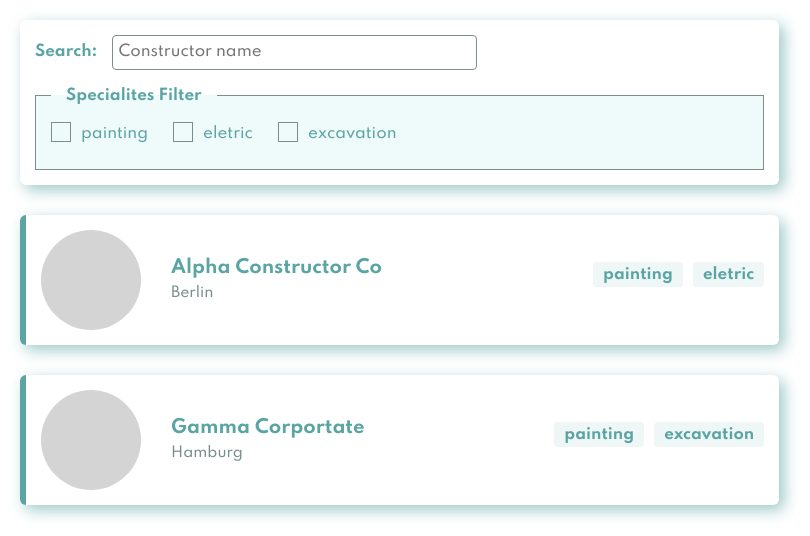
Test case: Constructor List component › should search a constructor by name
Type "Alpha" into the search field with placeholder "Constructor name" at (295, 52), box x1=112 y1=35 x2=477 y2=70
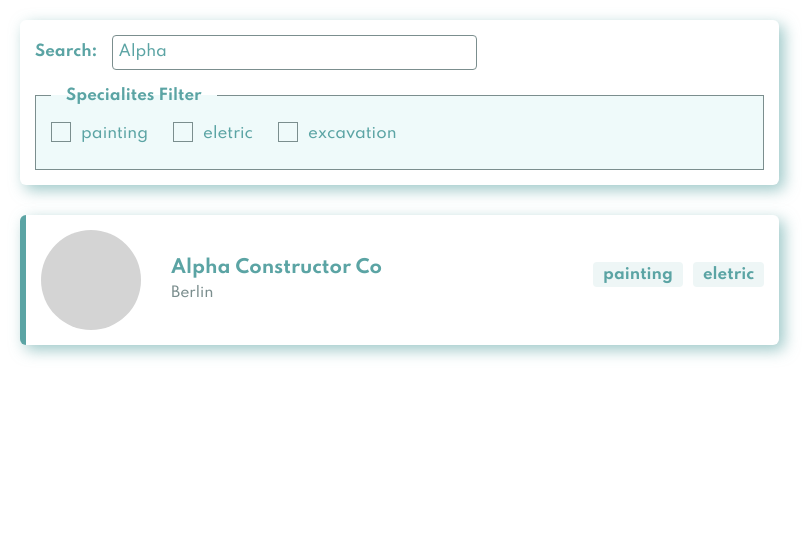
expect the heading "Alpha Constructor Co" is shown: met, box x1=171 y1=255 x2=382 y2=282
expect the heading "Gamma Corportate" is gone: met
